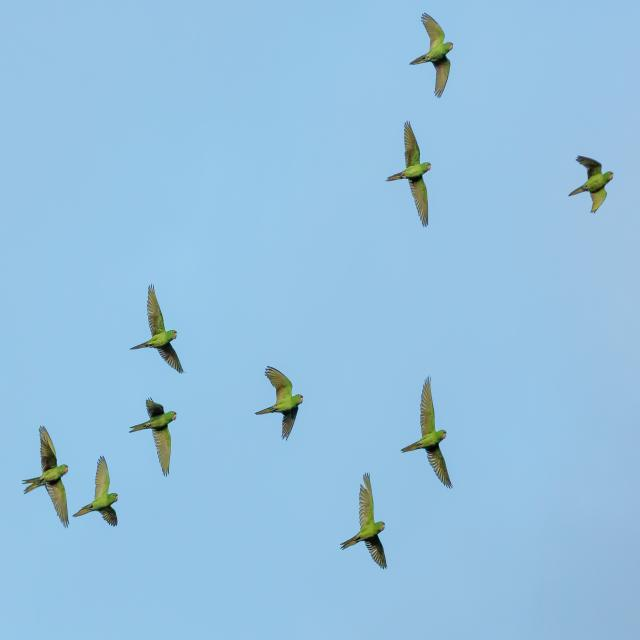bird: (404, 378, 453, 484), (387, 126, 434, 226), (26, 423, 72, 525), (130, 288, 184, 369), (342, 477, 389, 567), (131, 401, 182, 478), (412, 12, 456, 98), (255, 367, 306, 439), (77, 457, 121, 528), (568, 157, 617, 213)
